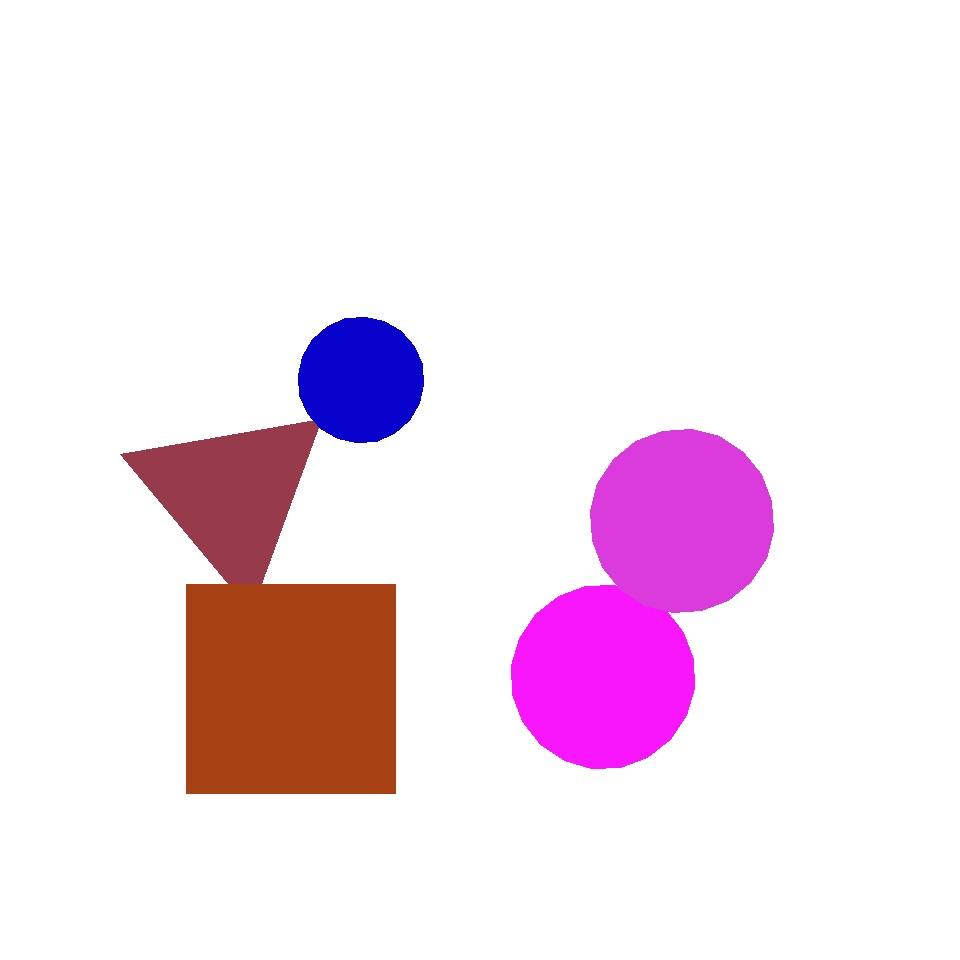circle: (217, 234, 456, 490), (130, 399, 332, 591), (821, 44, 943, 172)
square: (200, 256, 454, 510), (186, 584, 396, 794), (298, 616, 390, 710)
triangle: (336, 594, 668, 928), (290, 396, 532, 636), (590, 430, 774, 612), (512, 586, 695, 768), (298, 317, 424, 442)
